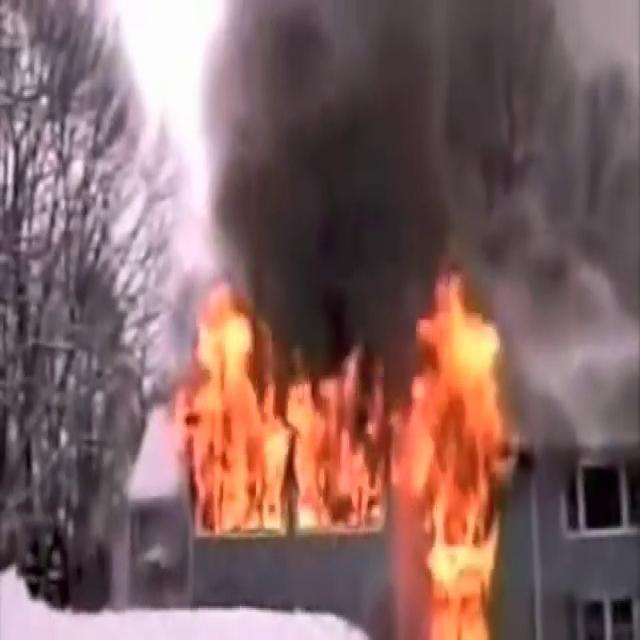Fire: (367, 270, 526, 638), (182, 280, 391, 548)
Smoke: (160, 0, 638, 354)
